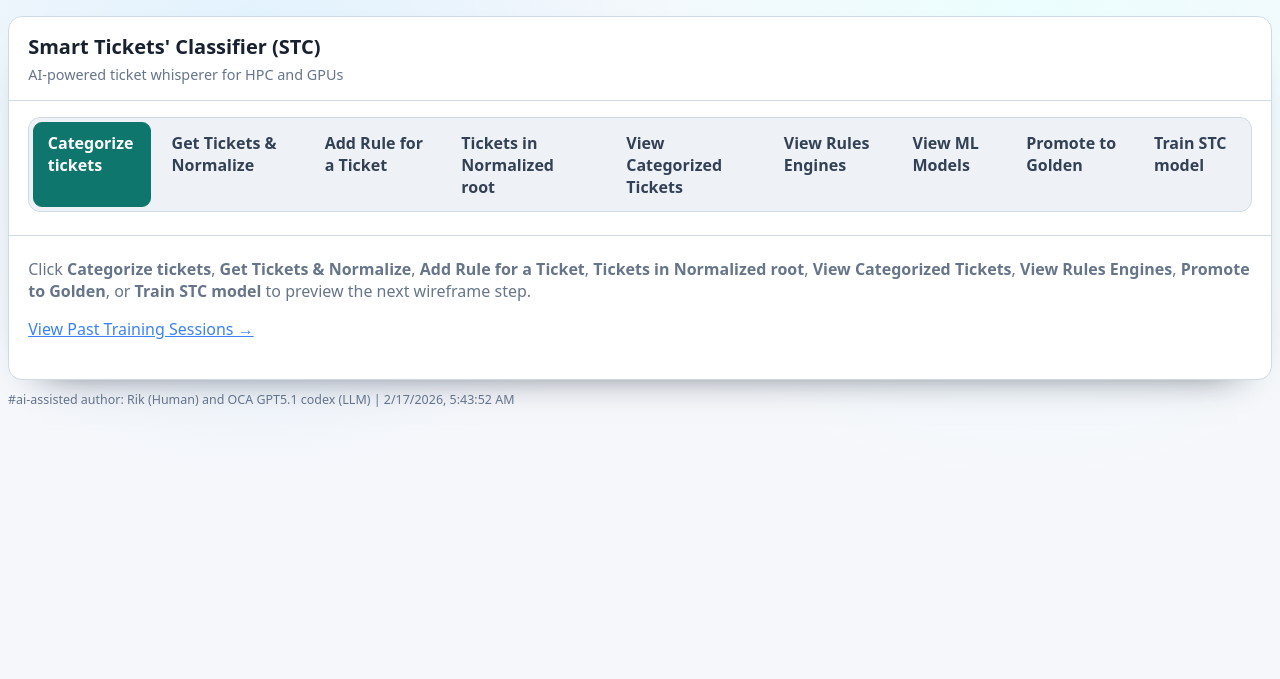
STC wireframe flow › starts ticket list in compact mode and expands on demand
Click the link "Tickets in Normalized root" at (508, 165), box [461, 132, 554, 198]
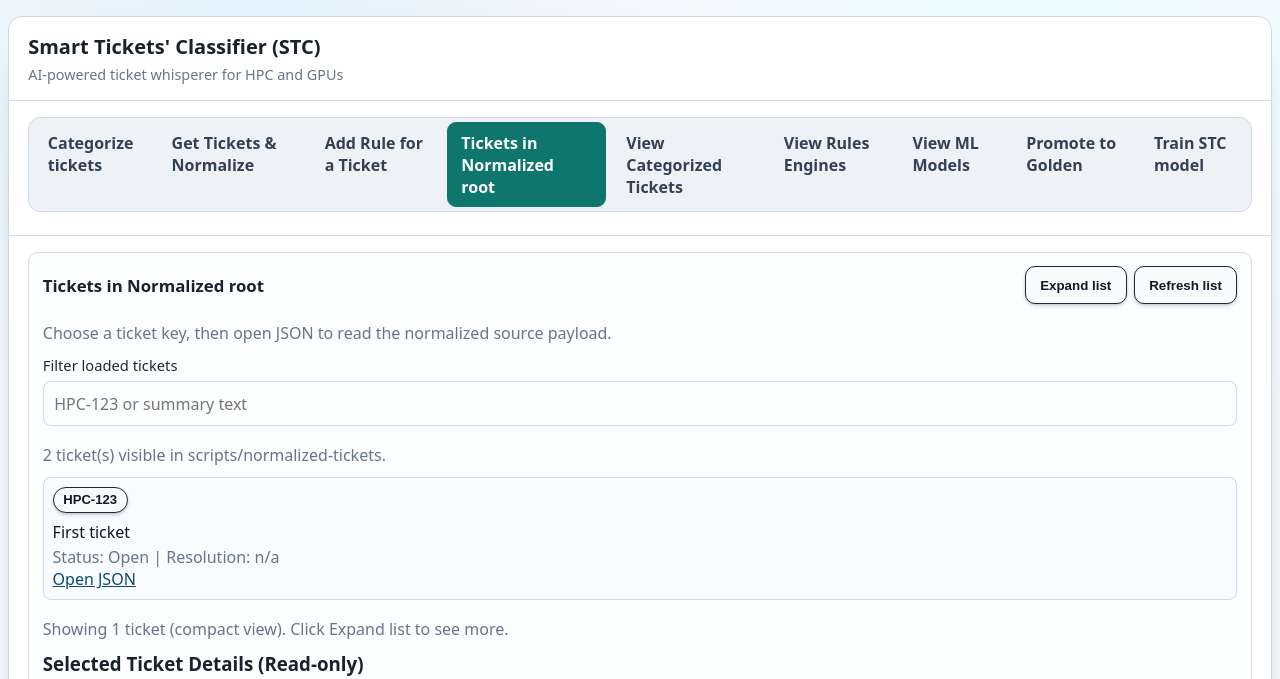
Expected: the button "HPC-456" is not shown
Expected: the button "HPC-123" is shown, [53, 487, 128, 513]
Expected: the text "Showing 1 ticket (compact view). Click Expand list to see more." is shown, [43, 618, 509, 640]
Click the button "Expand list" at (1076, 285), box [1025, 266, 1127, 304]
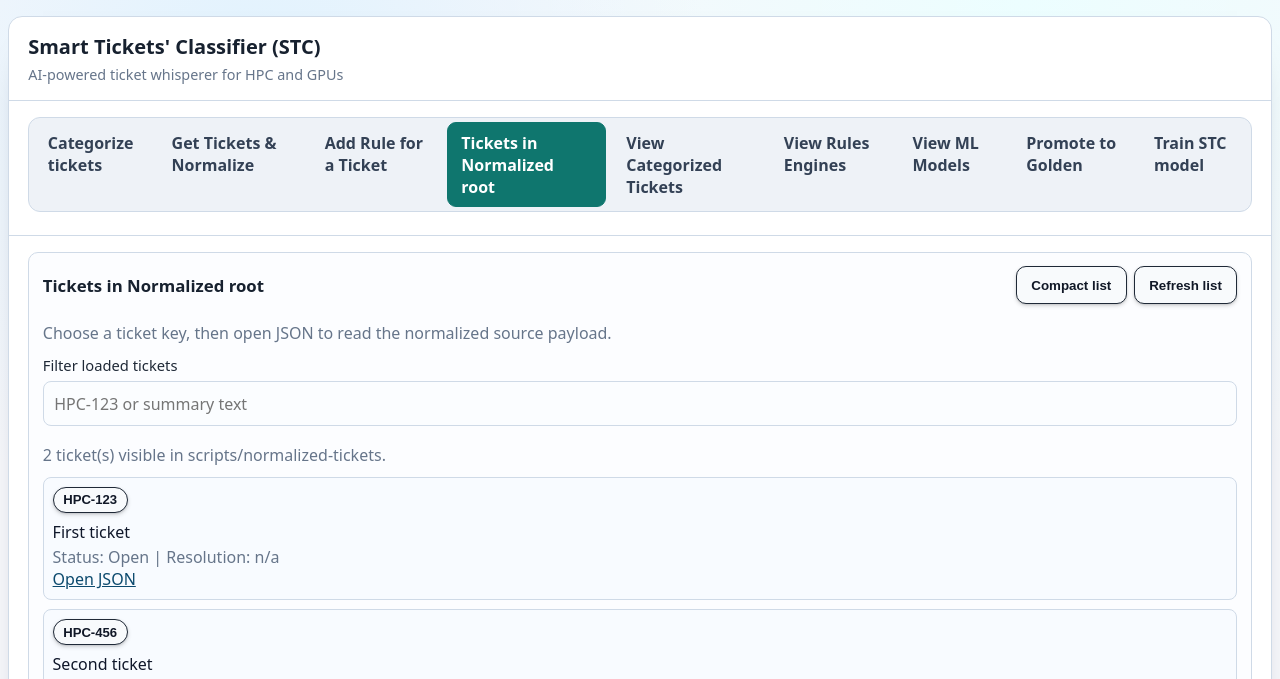
Expected: the button "HPC-456" is shown, [53, 619, 128, 645]
